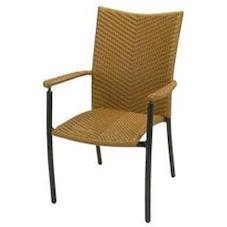chair: (25, 2, 195, 222)
